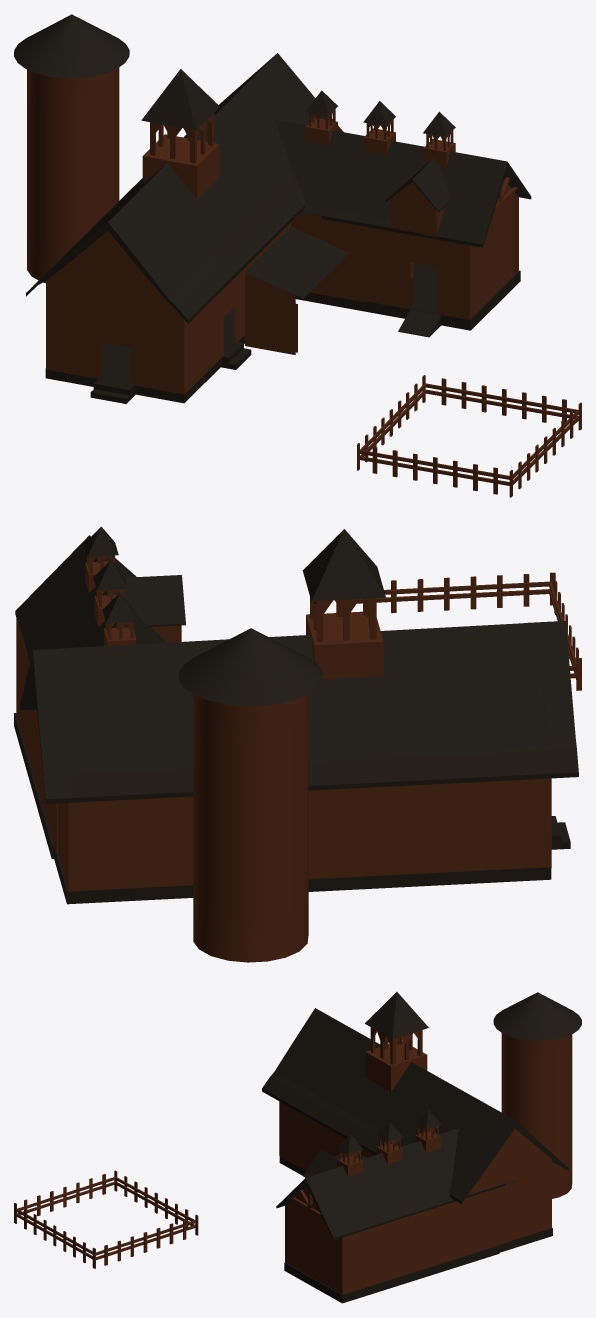
Rendered from BARN.fbx.
3 views of the same model, one above another, from view 1: azimuth 30°, elevation 25°; view 2: azimuth 150°, elevation 25°; view 3: azimuth 270°, elevation 25° (orthographic). The views are drawn at different scales.
Visible parts, largest first — view 1: BARN; view 2: BARN; view 3: BARN.
Part boxes in pixels (x1,y1,x2,y2): BARN: [14, 14, 581, 497]; BARN: [14, 526, 581, 962]; BARN: [14, 992, 581, 1303].
Bounding box in the file's own units: 424 × 222 × 567.
